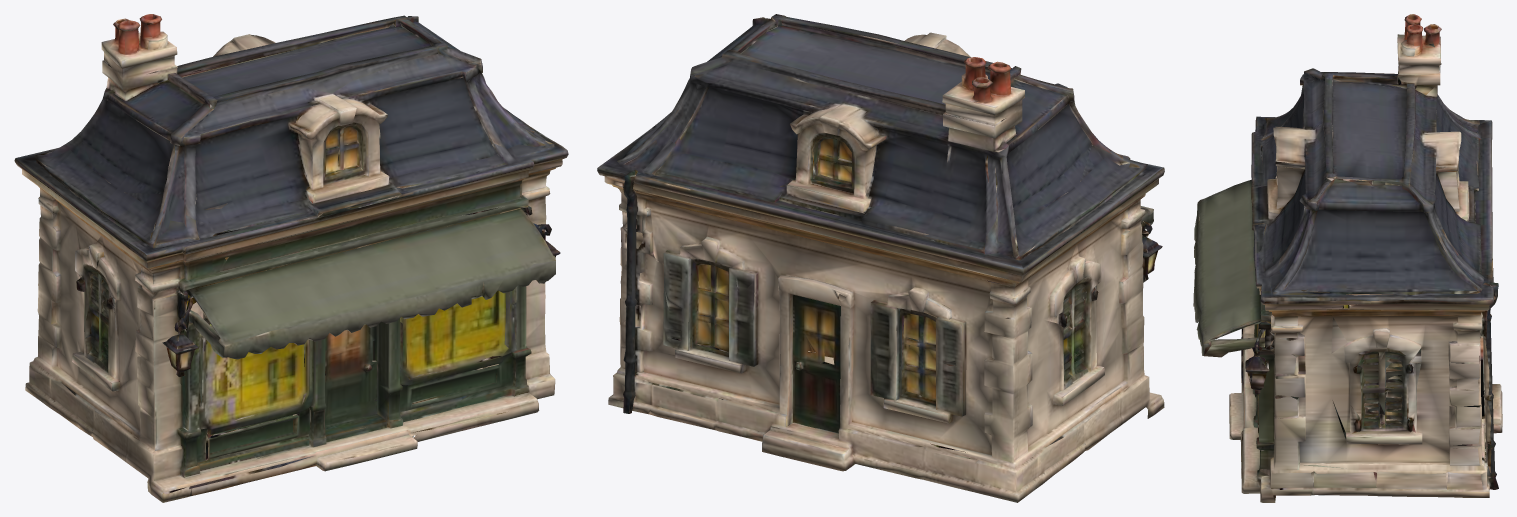
Rendered from shop_1.glb.
3 views of the same model, side by side, from view 1: azimuth 30°, elevation 25°; view 2: azimuth 150°, elevation 25°; view 3: azimuth 270°, elevation 25° (orthographic). The views are drawn at different scales.
Parts seen in each view (by area): view 1: classic__shop_1__neural_lod; view 2: classic__shop_1__neural_lod; view 3: classic__shop_1__neural_lod.
Boxes of the visible parts, left/top/right/bottom form: classic__shop_1__neural_lod: left=14, top=14, right=568, bottom=502; classic__shop_1__neural_lod: left=597, top=14, right=1164, bottom=502; classic__shop_1__neural_lod: left=1193, top=14, right=1502, bottom=502.
Bounding box in the file's own units: 1 × 0.8818 × 0.7176.
1 material, 1 textured.
